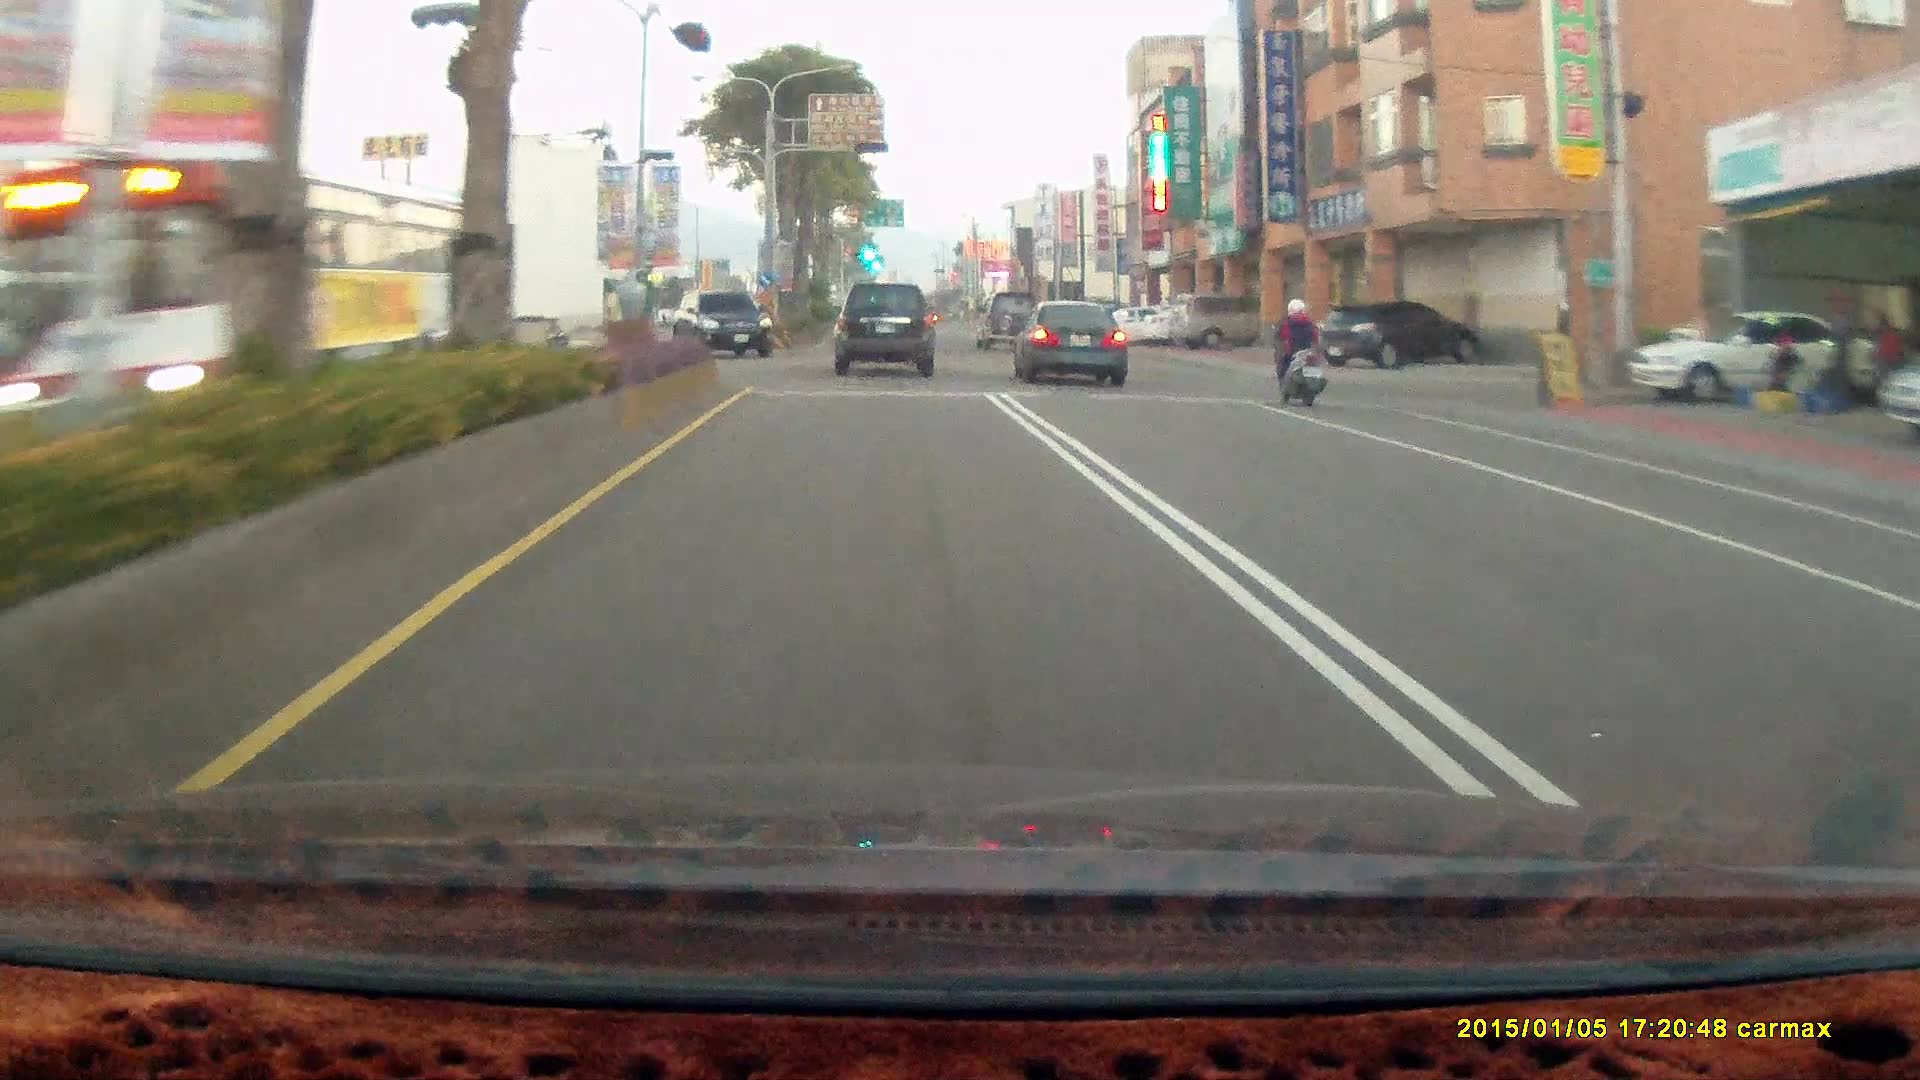pedestrian: (1828, 292, 1859, 410), (1871, 309, 1905, 417), (1769, 333, 1801, 405)
rider: (1259, 288, 1339, 417), (1267, 298, 1325, 407)
vehicle: (0, 136, 504, 442), (69, 144, 491, 415), (1624, 307, 1875, 403), (1629, 308, 1876, 404), (1312, 299, 1480, 367), (1312, 300, 1477, 368), (1011, 297, 1131, 388), (1007, 297, 1127, 384), (834, 281, 940, 376), (832, 280, 933, 374), (673, 288, 773, 361), (672, 288, 773, 356), (1170, 293, 1267, 355), (1170, 293, 1280, 347), (973, 287, 1039, 348), (1095, 303, 1178, 343), (1878, 362, 1920, 428)
